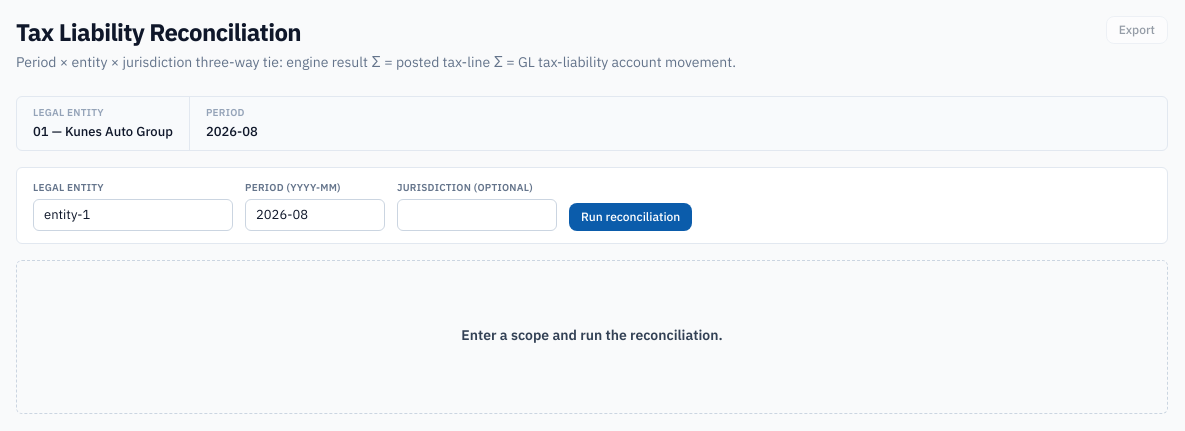
Test: TaxReconciliation › renders a BALANCED three-way tie (happy render)
The image size is (1185, 431).
Click the button with test id "tax-reconciliation-run". click: [631, 216]
box: [569, 202, 692, 230]
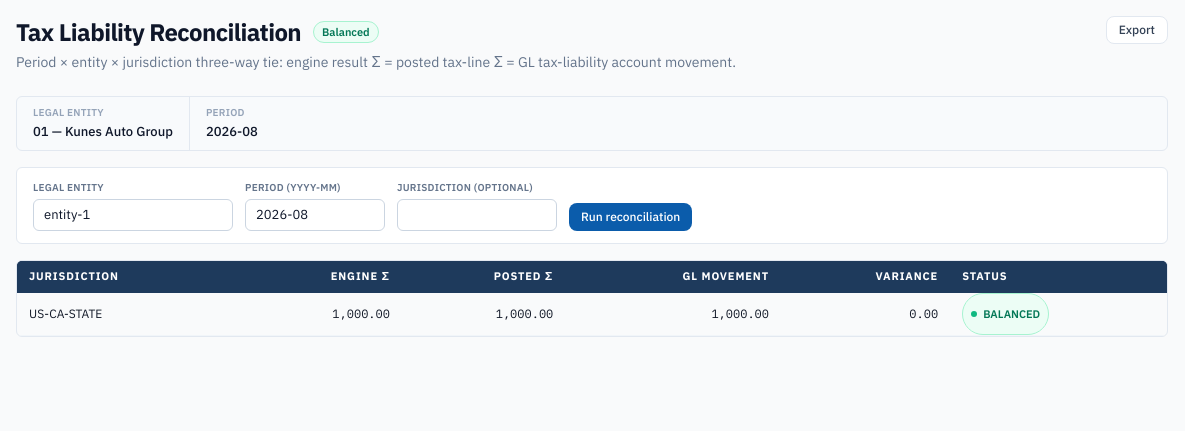
Result: the table with test id "tax-reconciliation-table" is shown at [17, 260, 1167, 336]
Result: the text "BALANCED" is shown at [962, 292, 1049, 334]
